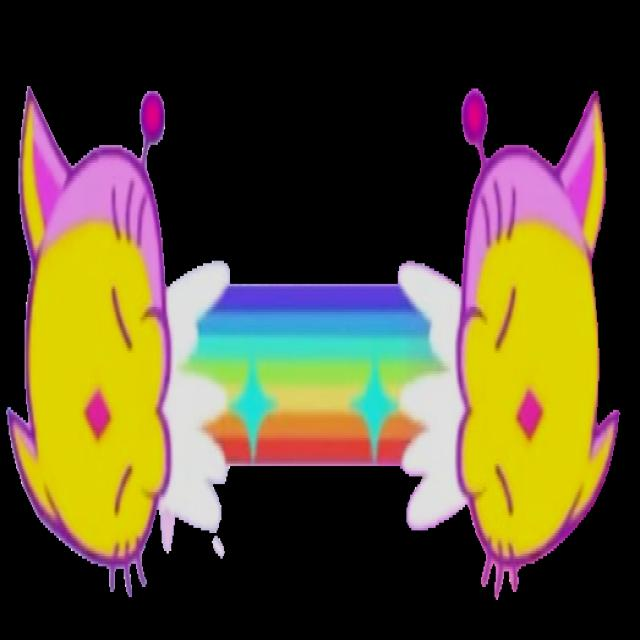Two-Faced Monster: (1, 0, 633, 639)
